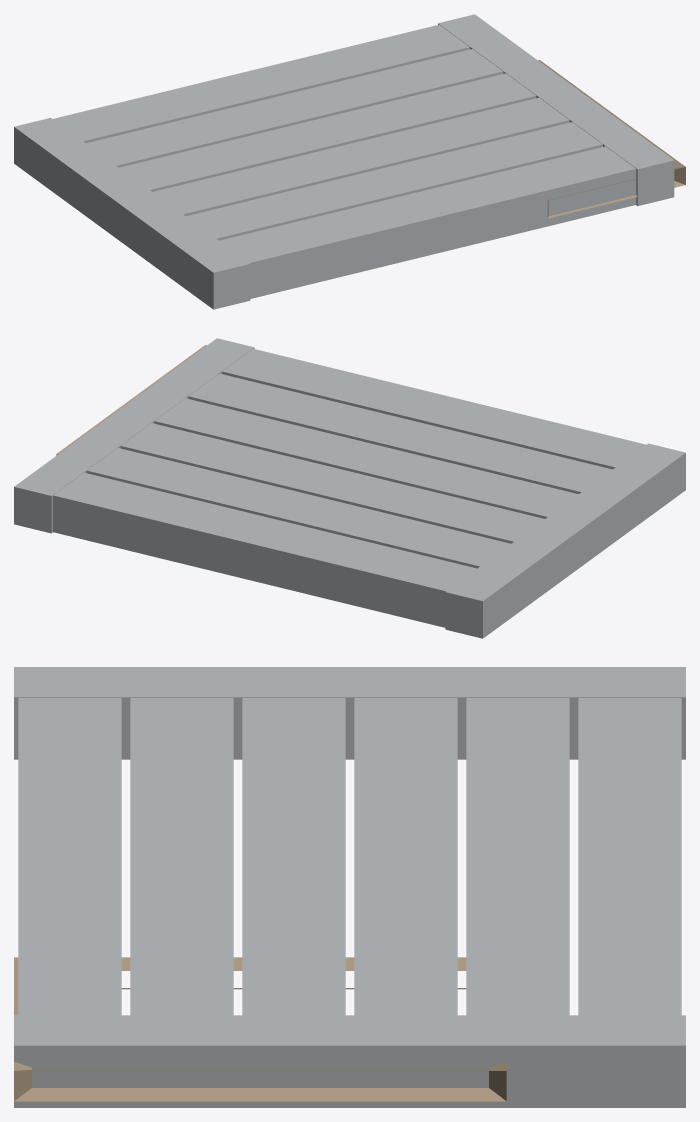
3 renders of one model, top to bottom at view 1: azimuth 30°, elevation 25°; view 2: azimuth 150°, elevation 25°; view 3: azimuth 270°, elevation 25°, orthographic. The views are drawn at different scales.
Parts seen in each view (by area): view 1: city_c8_pilot_variant; view 2: city_c8_pilot_variant; view 3: city_c8_pilot_variant.
Boxes of the visible parts, left/top/right/bottom form: city_c8_pilot_variant: left=14, top=14, right=685, bottom=309; city_c8_pilot_variant: left=14, top=338, right=685, bottom=638; city_c8_pilot_variant: left=14, top=667, right=685, bottom=1107.
Size of the model in its own units: 4.1 by 0.306 by 3.
